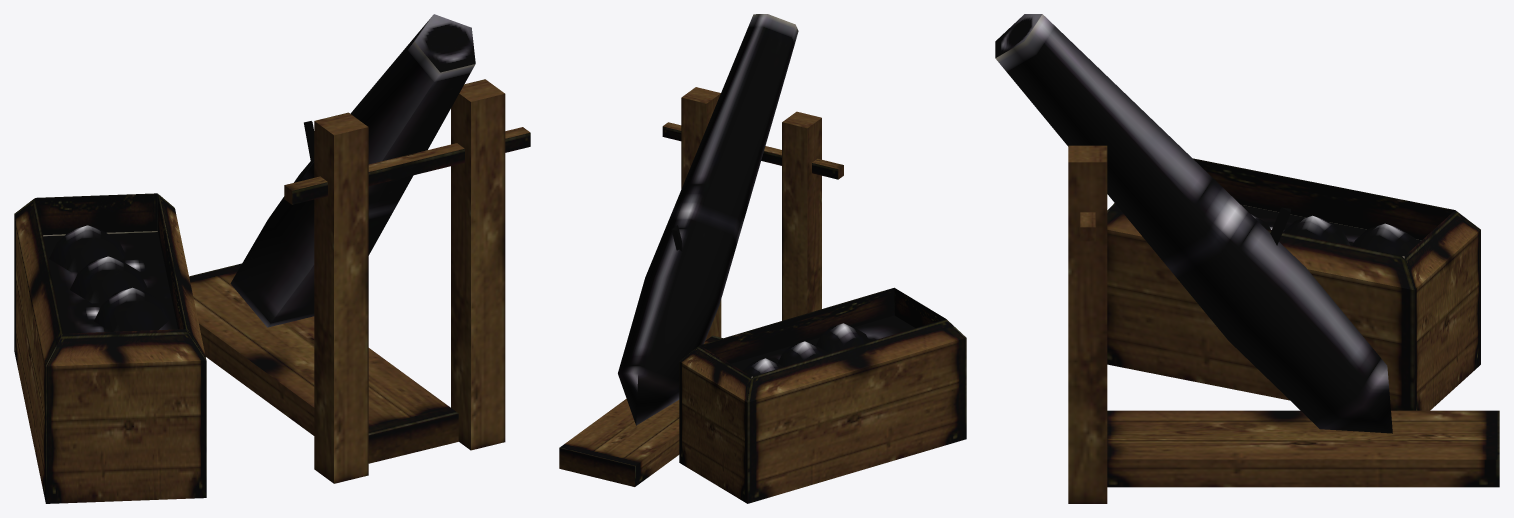
File: Cannon02.glb
3 views of the same model, side by side, from view 1: azimuth 30°, elevation 25°; view 2: azimuth 150°, elevation 25°; view 3: azimuth 270°, elevation 25° (orthographic). The views are drawn at different scales.
Visible parts, largest first — view 1: Cannon02; view 2: Cannon02; view 3: Cannon02.
Boxes of the visible parts, box(x1,y1,x2,y2) form: Cannon02: box(14, 14, 530, 503); Cannon02: box(559, 14, 966, 503); Cannon02: box(995, 14, 1499, 503).
Bounding box in the file's own units: 1.35 × 1.33 × 1.36.
1 material, 1 textured.
